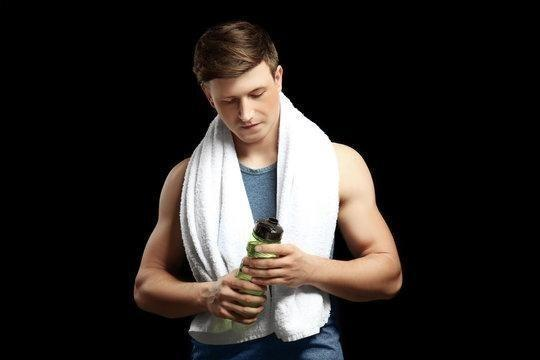gym bottle: (229, 215, 284, 323)
